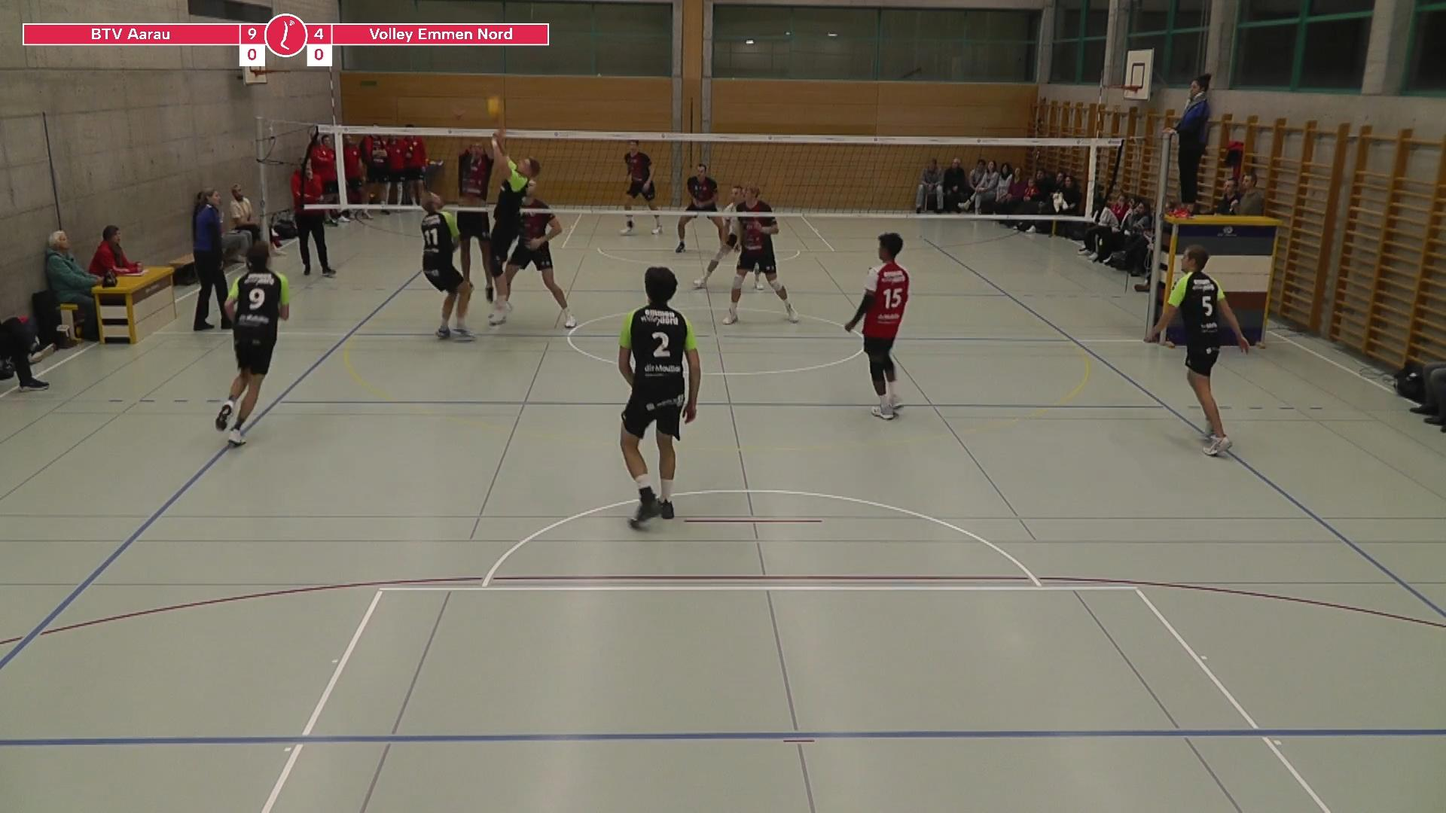alzata: (473, 130, 541, 332)
